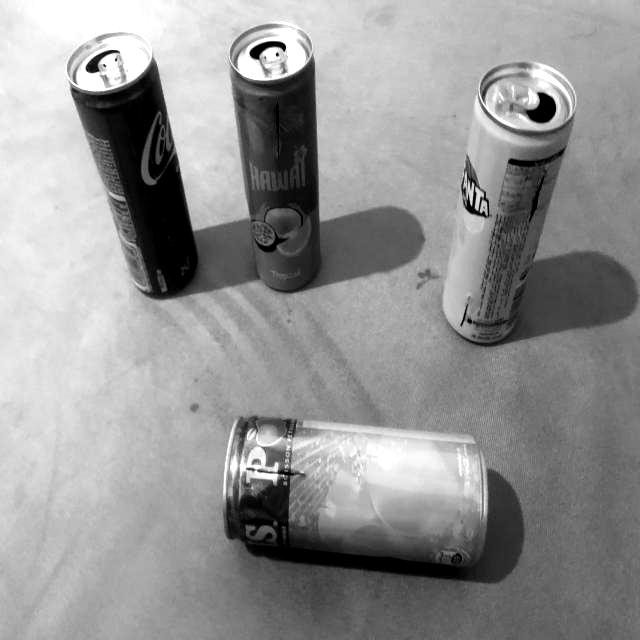cut: (146, 188, 182, 269), (241, 454, 310, 490), (519, 161, 550, 239), (266, 97, 289, 166), (452, 286, 479, 337)
metal: (224, 417, 488, 567), (443, 62, 574, 344), (68, 32, 196, 295), (230, 23, 320, 291)
